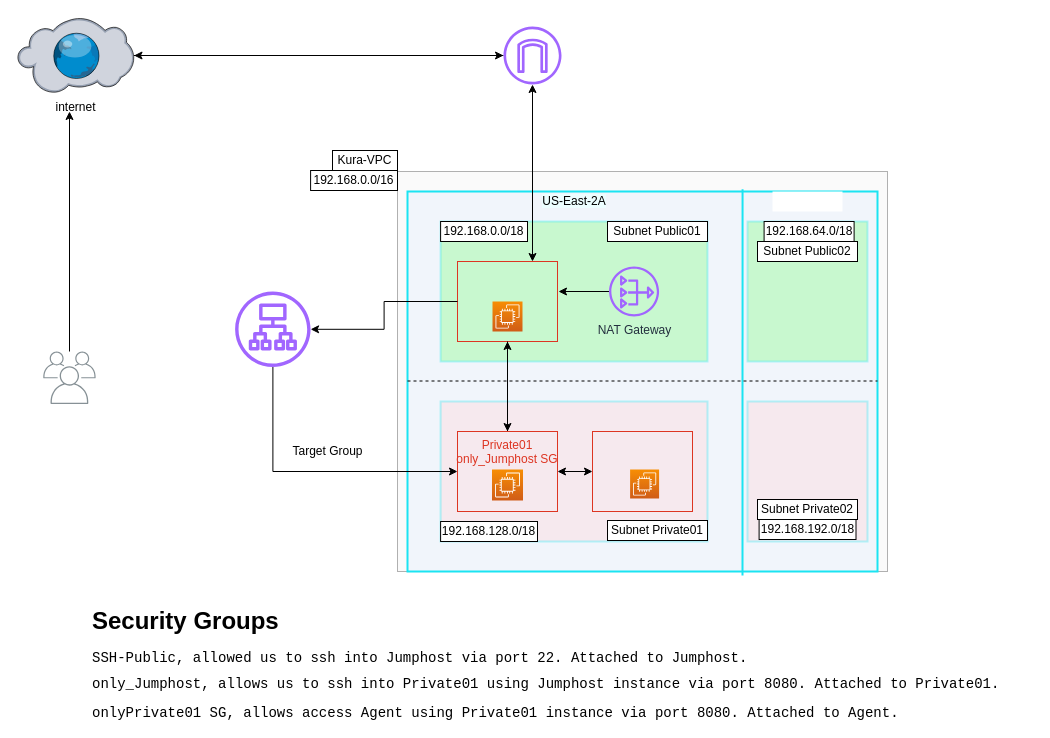
Image size: 1050x738. Some labels were removed from this diagram. The shapes that lost their labels are listed below. From the top down, each one's box as (x1, y1, x2, y2) in pixels, then its label:
(503, 26, 561, 84): Internet Gateway
(772, 191, 842, 211): US-East-2B
(456, 260, 558, 342): JumpHost SSH-Public SG
(235, 291, 310, 366): Application Load Balancer
(43, 351, 95, 404): User
(592, 430, 692, 512): Agent only_Private01 SG
